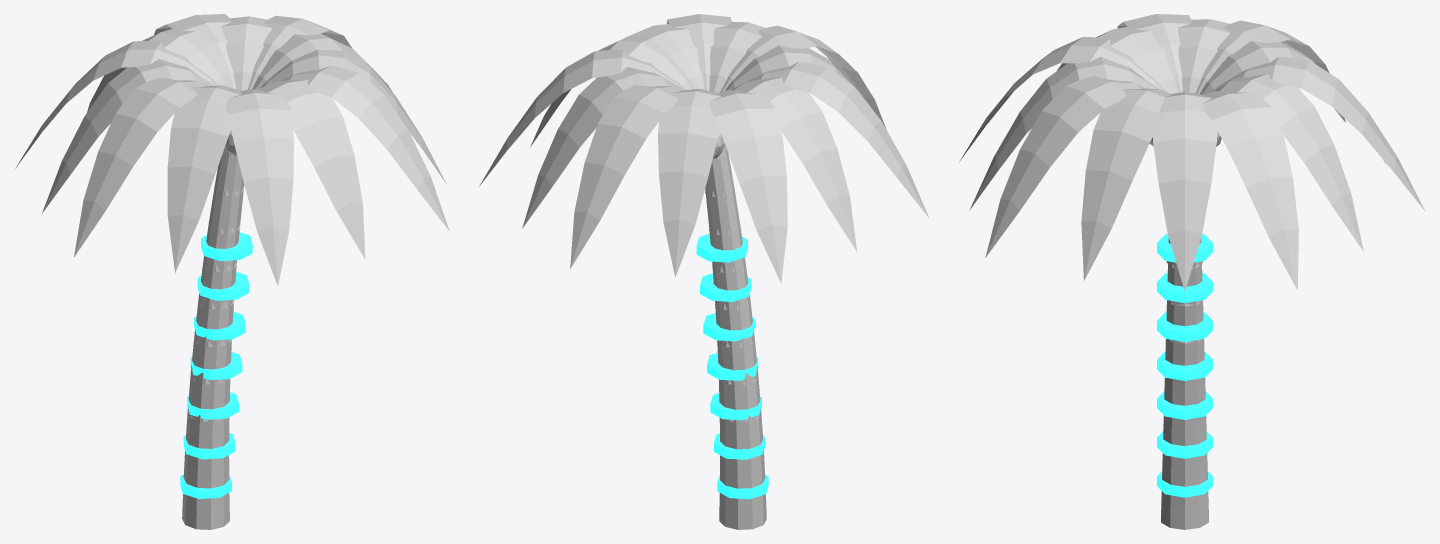
3 views of the same model, side by side, from view 1: azimuth 30°, elevation 25°; view 2: azimuth 150°, elevation 25°; view 3: azimuth 270°, elevation 25° (orthographic). The views are drawn at different scales.
Parts seen in each view (by area): view 1: Neon_CyberPalm_Showcase; view 2: Neon_CyberPalm_Showcase; view 3: Neon_CyberPalm_Showcase.
Part boxes in pixels (x1,y1,x2,y2): Neon_CyberPalm_Showcase: [15, 14, 449, 529]; Neon_CyberPalm_Showcase: [479, 14, 928, 529]; Neon_CyberPalm_Showcase: [959, 14, 1425, 529].
Size of the model in its own units: 3.23 by 3.75 by 3.33.
